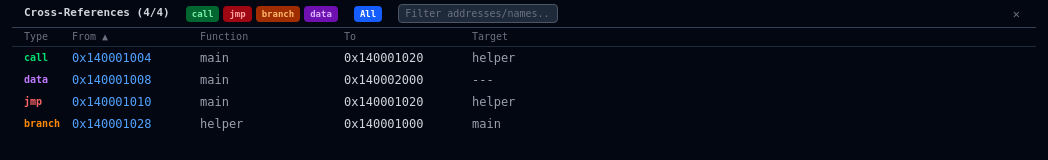
Test case: XrefPanel › says NONE MATCH — a different message — when the filters emptied a full list
Click the button "call" at (203, 14), box [186,6,219,22]
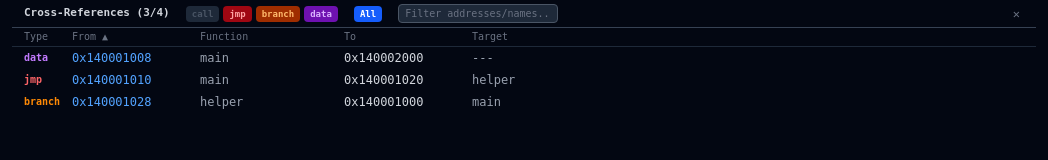
Click the button "jmp" at (238, 14), box [223,6,252,22]
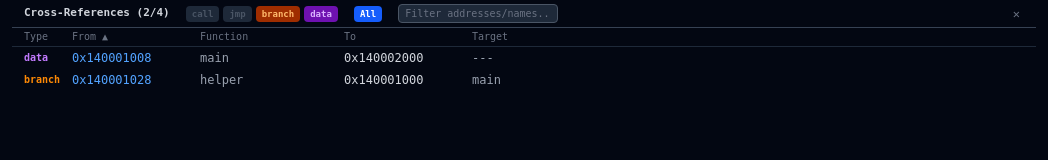
Click the button "branch" at (278, 14), box [256,6,300,22]
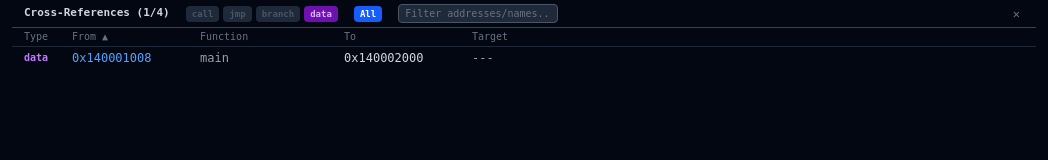
Click the button "data" at (321, 14), box [304,6,338,22]
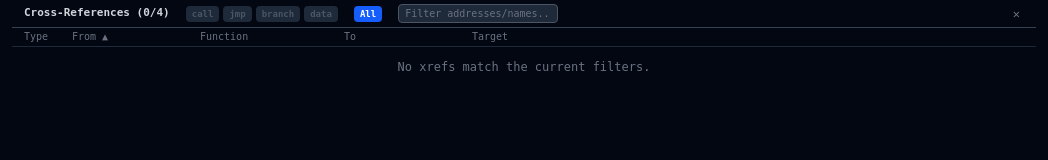
Check: the text "No xrefs match the current filters." is shown, box [398,60,650,74]
Check: the text "Cross-References (0/4)" is shown, box [24,6,170,21]
